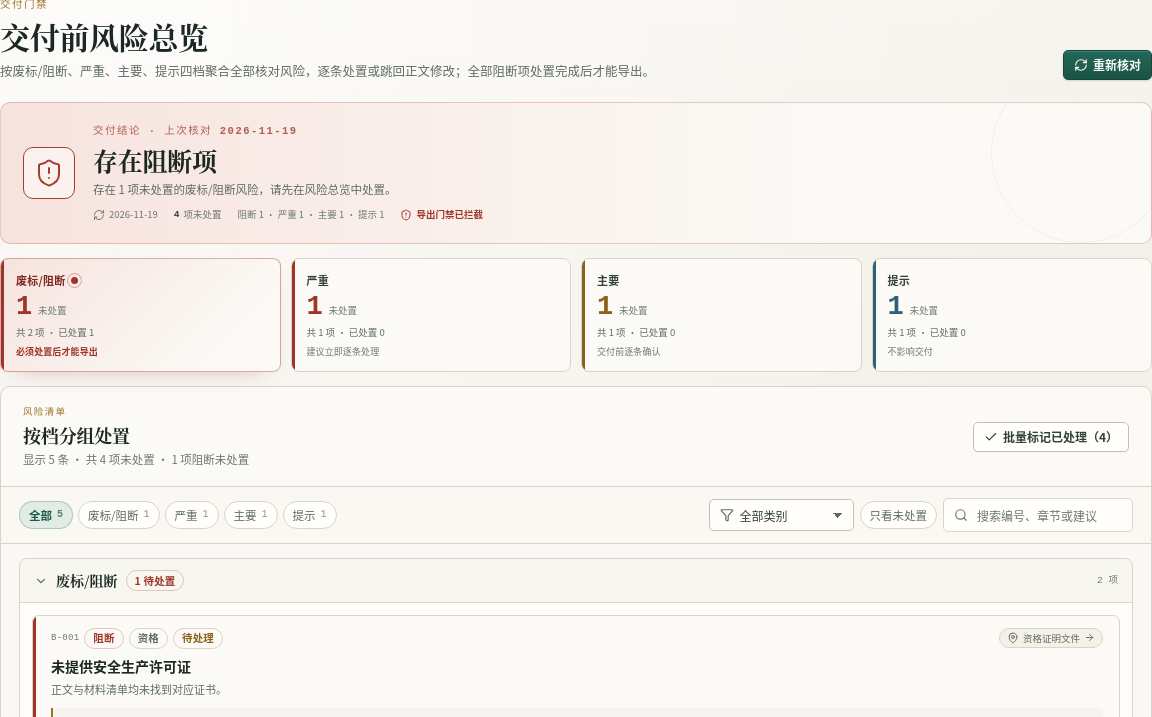
Test case: RiskTab › shows 未定位到章节 when an issue has no node anchor
// 主要档默认折叠，先按档筛选把它展开。
Step 1. Click the button "主要 1" → click(251, 515), box [224,501,278,529]
(page scrolled)
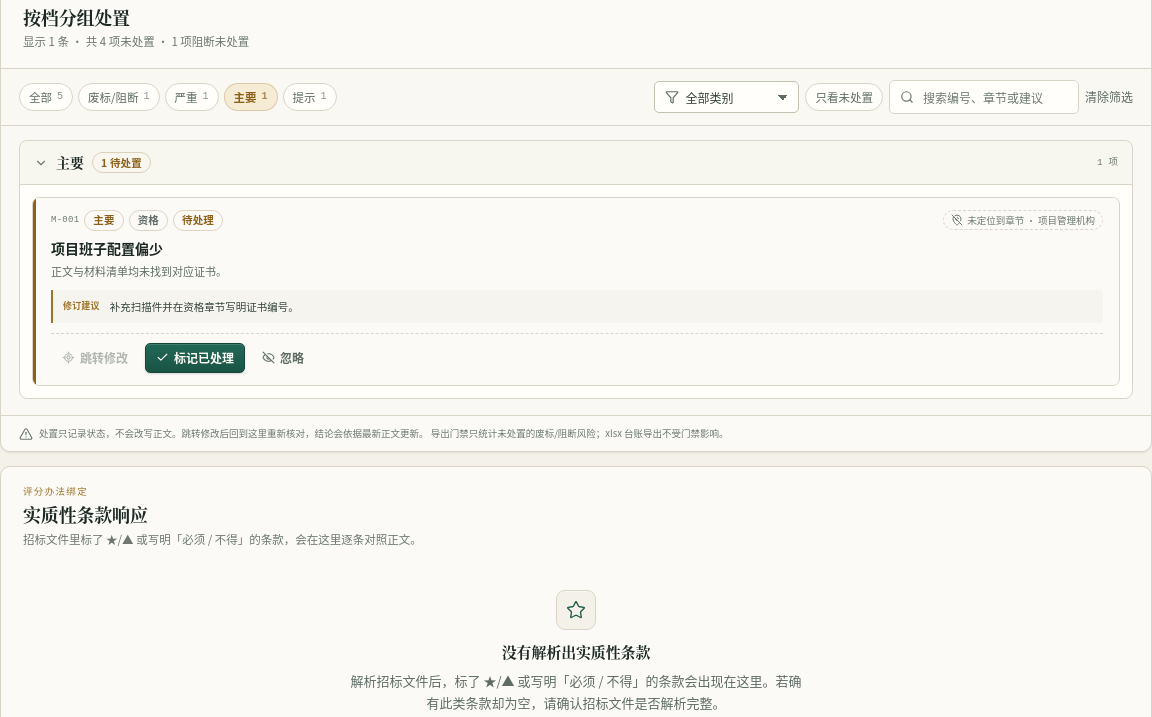
Now the text "未定位到章节 · 项目管理机构" is shown, box [967,213,1095,227]
Now the button "跳转修改" is disabled, box [51,343,139,373]
